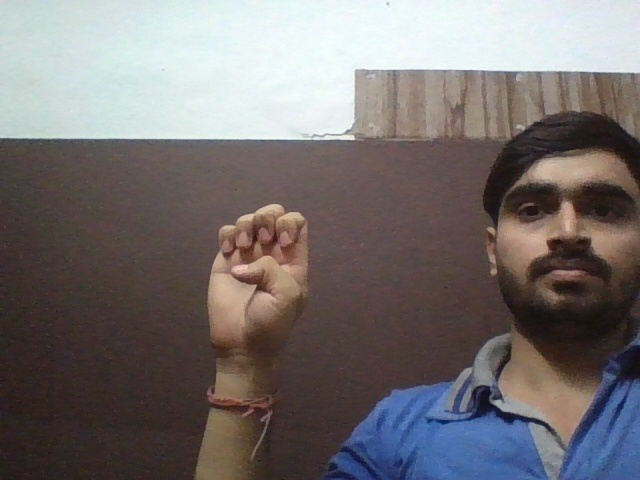E: (197, 200, 331, 364)
